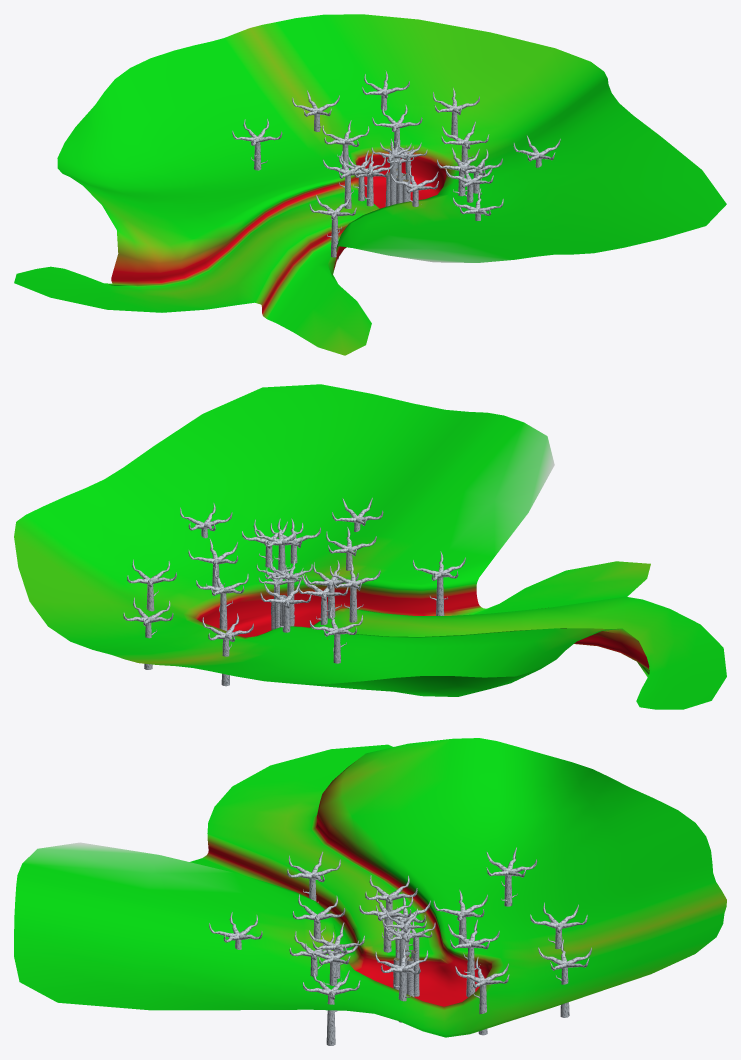
The model's file is Treetop Layout.fbx.
3 renders of one model, top to bottom at view 1: azimuth 30°, elevation 25°; view 2: azimuth 150°, elevation 25°; view 3: azimuth 270°, elevation 25°, orthographic. The views are drawn at different scales.
Parts seen in each view (by area): view 1: OOB Terrain, OOB Trees, Trees; view 2: OOB Terrain, OOB Trees, Trees; view 3: OOB Terrain, OOB Trees, Trees.
Boxes of the visible parts, x1,y1,x2,y2 form: OOB Terrain: (14, 14, 726, 355); OOB Trees: (232, 70, 560, 260); Trees: (385, 157, 410, 206); OOB Terrain: (14, 384, 726, 709); OOB Trees: (123, 497, 465, 686); Trees: (271, 578, 294, 629); OOB Terrain: (14, 738, 726, 1037); OOB Trees: (209, 847, 591, 1045); Trees: (393, 928, 419, 996).
Size of the model in its own units: 115712 by 17381 by 102810.
